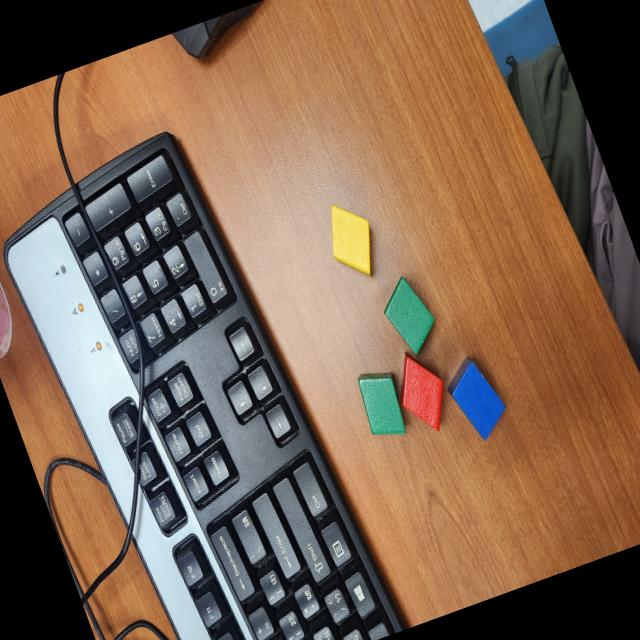blue: (439, 349, 516, 448)
green: (374, 270, 445, 362), (350, 362, 414, 447)
red: (385, 343, 460, 442)
yellow: (316, 196, 388, 286)
